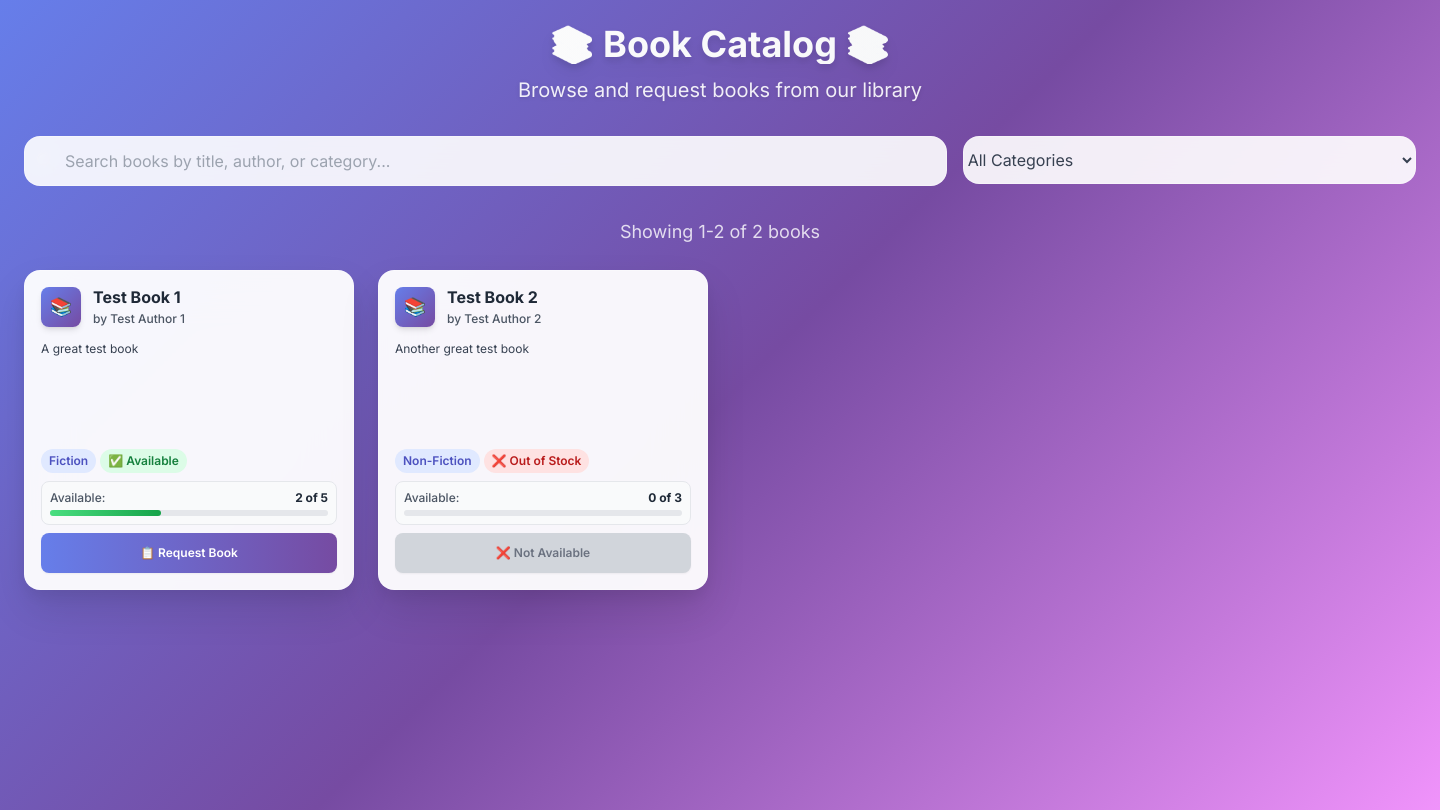
Test: BookCatalog Component › filters books by search query
Step 1. Type "Test Book 1" into the field with placeholder "Search books by title, author, or category..." → (485, 161), box [24,136,947,186]
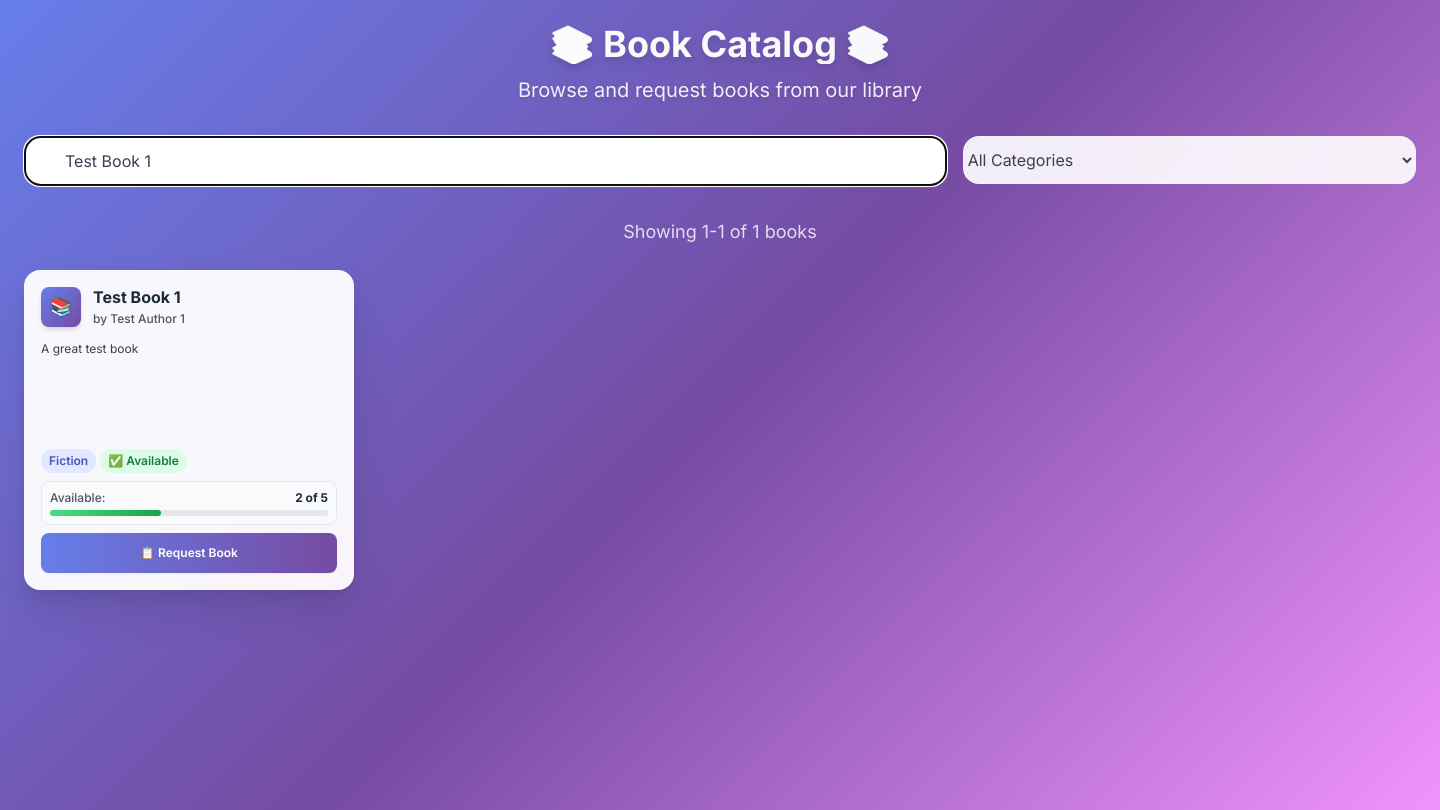
Expected: the heading "Test Book 1" is shown, [93,287,181,307]
Expected: the heading "Test Book 2" is gone
